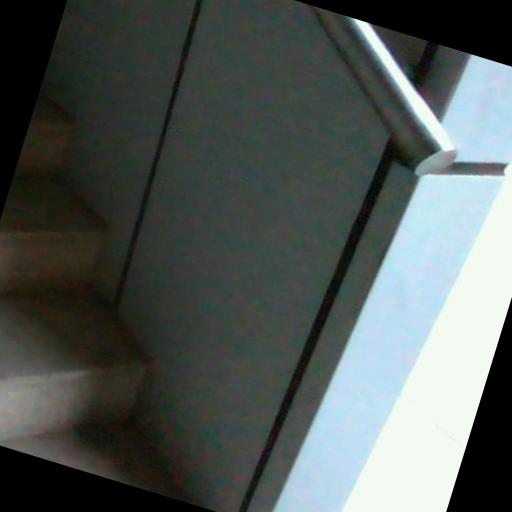stairs: (0, 96, 177, 499)
